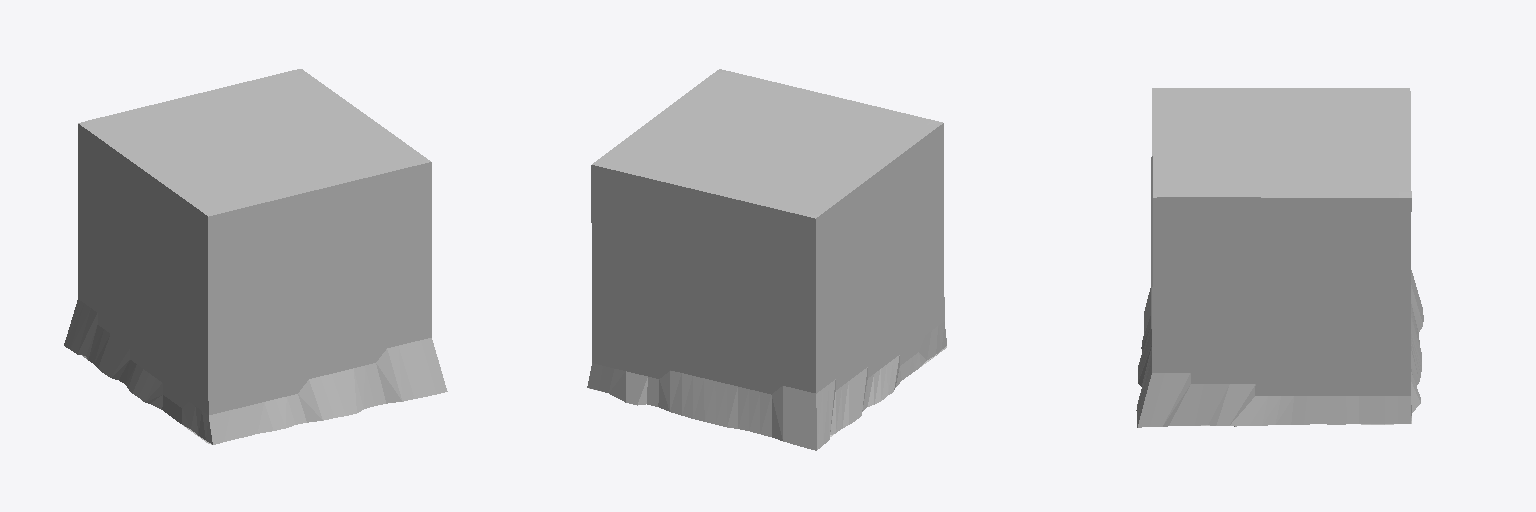
Rendered from mod0164.obj.
3 renders of one model, left to right at view 1: azimuth 30°, elevation 25°; view 2: azimuth 150°, elevation 25°; view 3: azimuth 270°, elevation 25°, orthographic.
Visible parts, largest first — view 1: Box001; view 2: Box001; view 3: Box001.
Part boxes in pixels (left/top/right/bottom): Box001: left=64, top=69, right=447, bottom=444; Box001: left=587, top=69, right=946, bottom=450; Box001: left=1136, top=88, right=1423, bottom=427.
Bounding box in the file's own units: 0.5799 × 0.5224 × 0.5979.